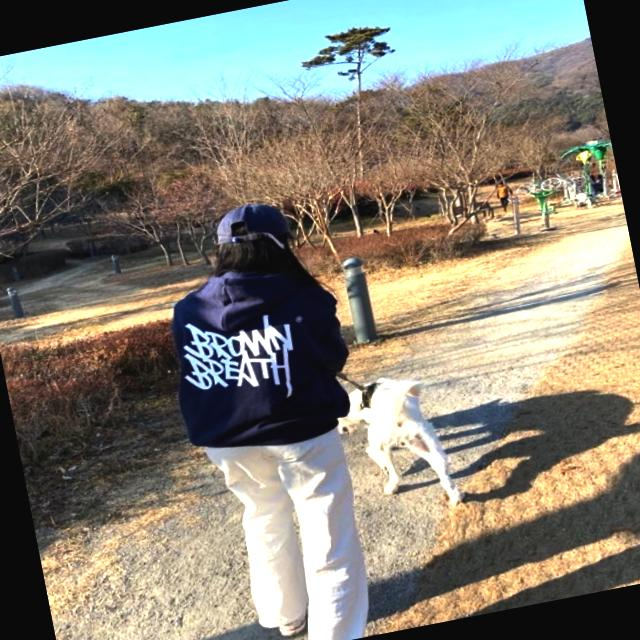cottonpants: (209, 419, 385, 640)
hoodies: (159, 244, 366, 458)
